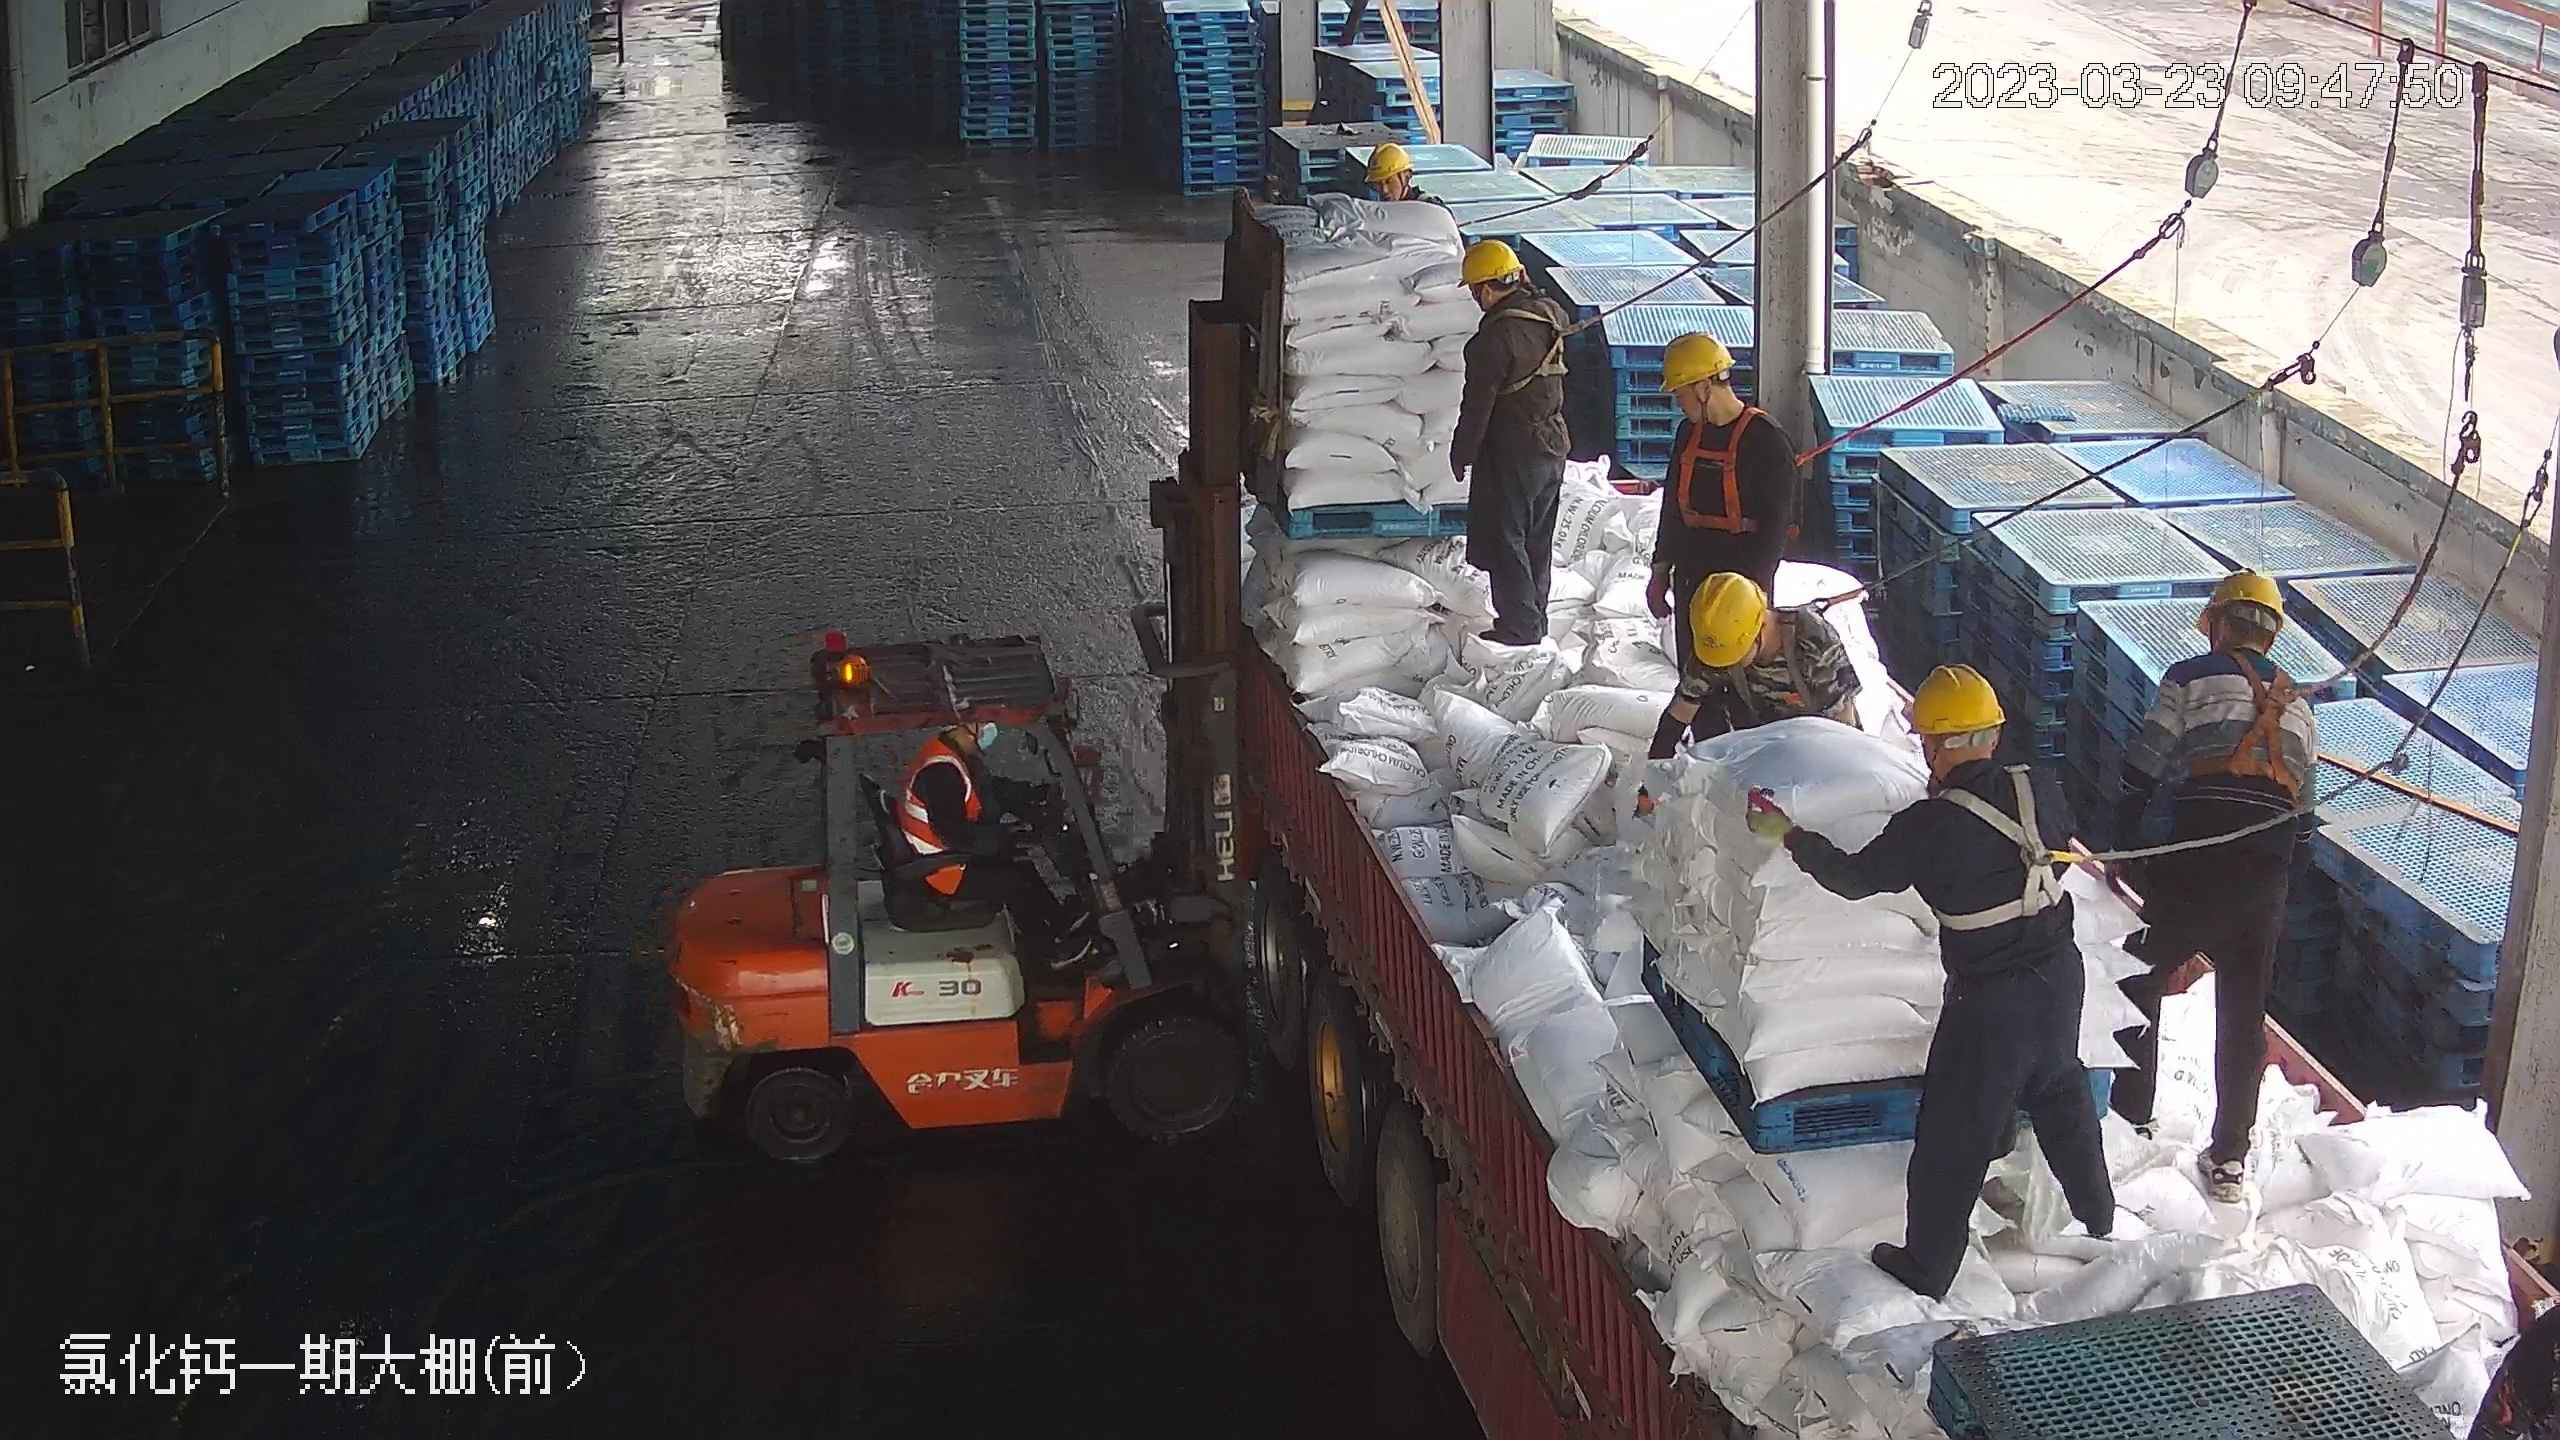belt: (1923, 759, 2091, 934), (2174, 651, 2320, 794), (1665, 399, 1779, 532), (1484, 296, 1580, 392), (1724, 603, 1822, 698), (1413, 185, 1437, 205)
head: (1876, 656, 2071, 849), (2153, 562, 2311, 722), (1651, 326, 1791, 472), (1689, 569, 1840, 691), (1451, 235, 1577, 360)
helmet: (1688, 568, 1770, 665), (1900, 658, 2007, 734), (2194, 563, 2284, 634), (1654, 328, 1736, 393), (1456, 234, 1523, 285), (1364, 137, 1414, 181)
people: (1741, 659, 2120, 1312), (2096, 564, 2316, 1202), (1637, 312, 1796, 736), (1446, 232, 1579, 648), (895, 717, 1094, 966)
truck: (1165, 115, 2506, 1433)
